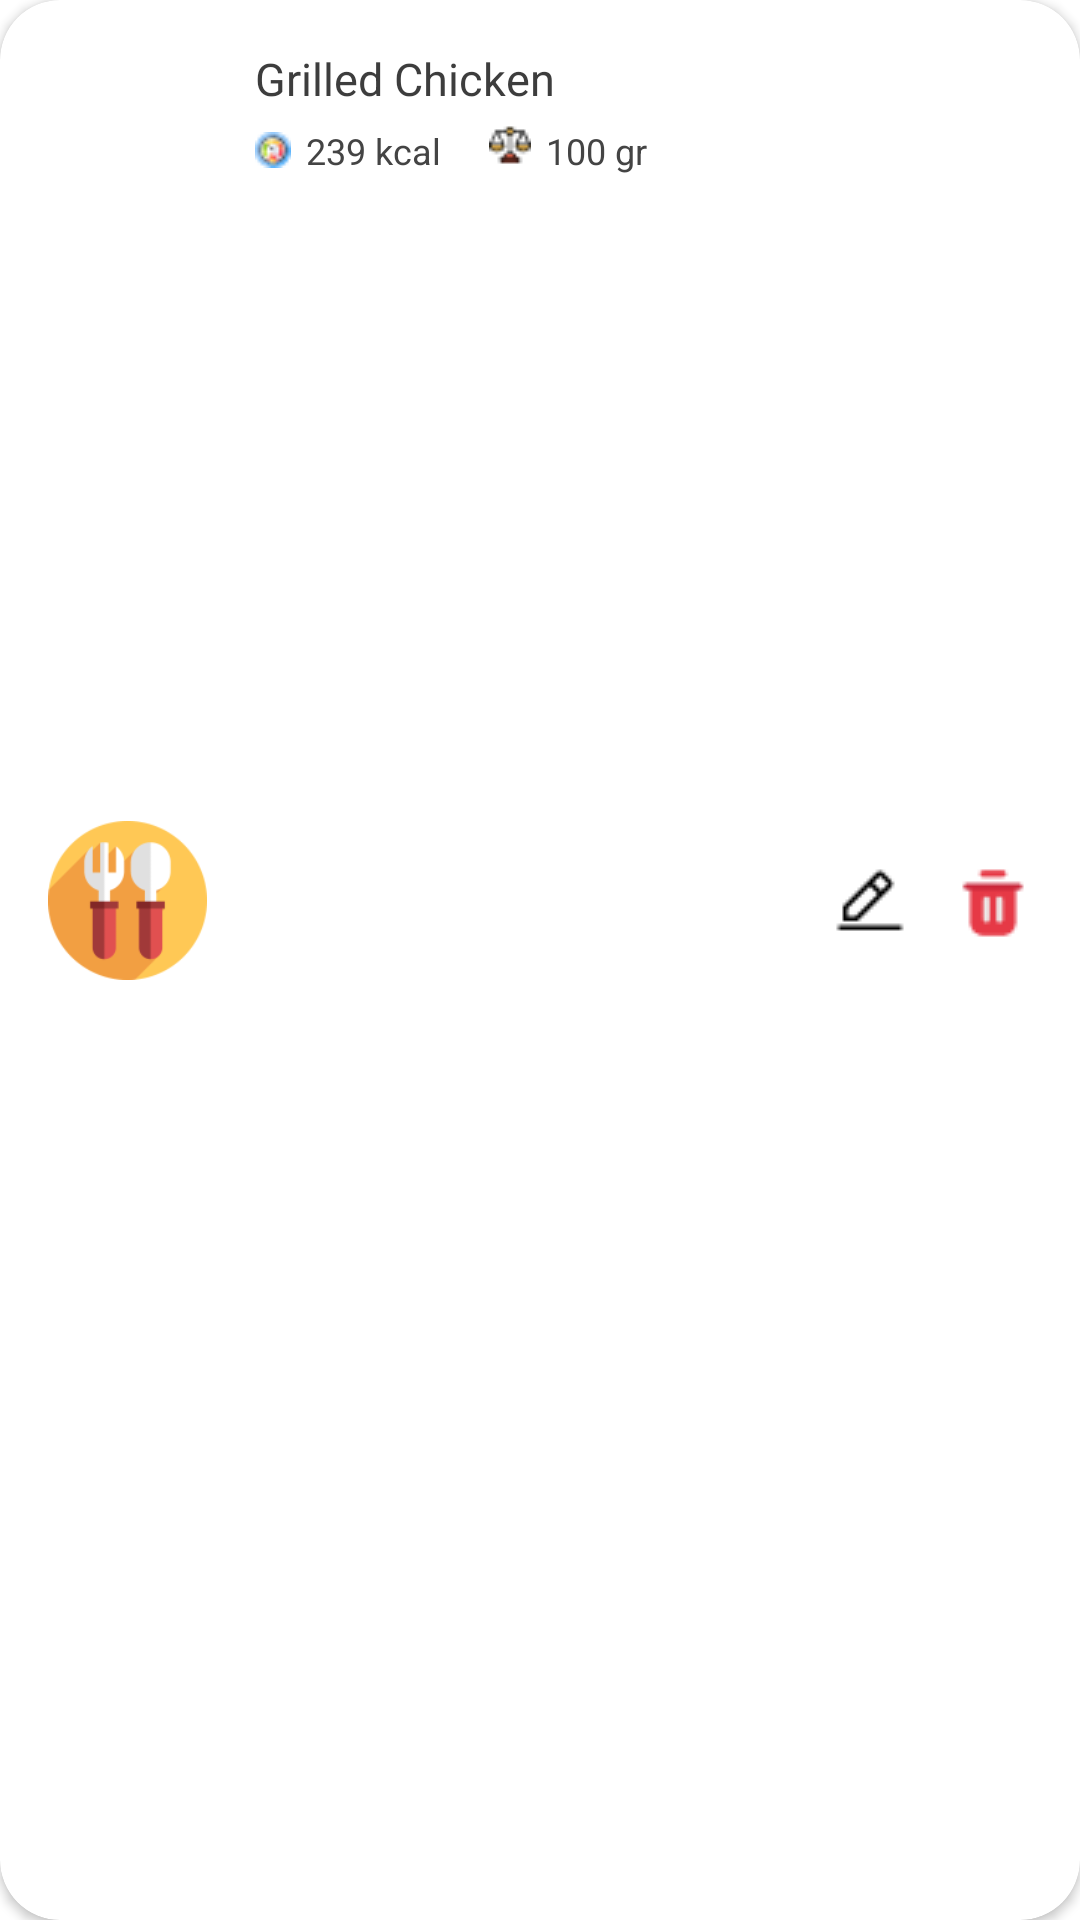

Icon click points for this 1080px x 1920px phone screenshot, format point (x, y):
delete: point (993, 903)
edit: point (870, 900)
food: point (127, 900)
gram: point (510, 145)
